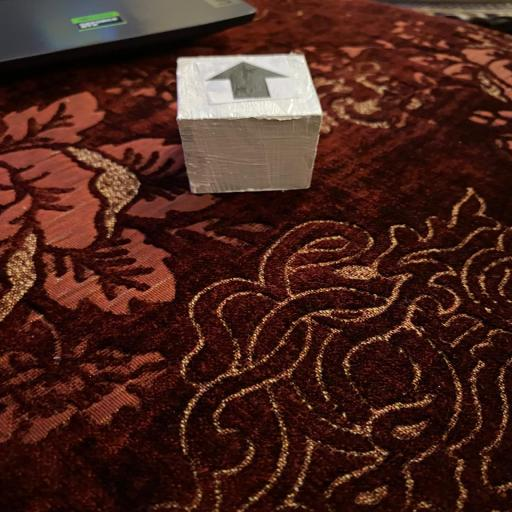Up: (172, 53, 327, 195)
